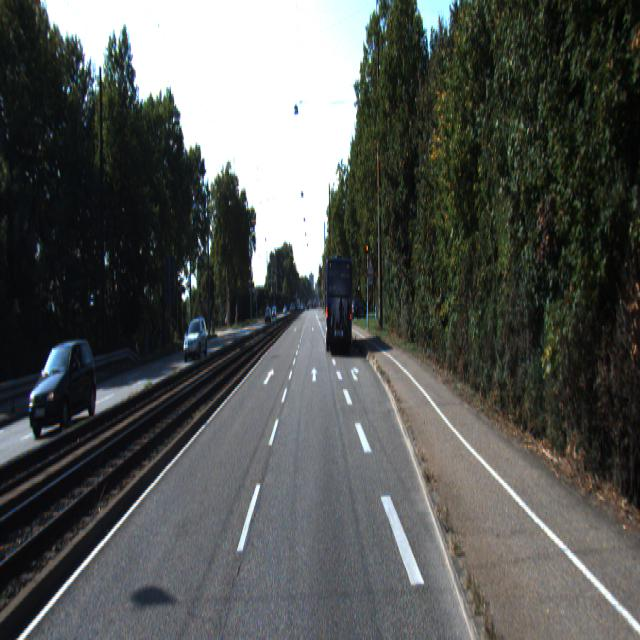Car: (28, 337, 100, 438), (326, 257, 354, 356), (181, 315, 209, 363)
